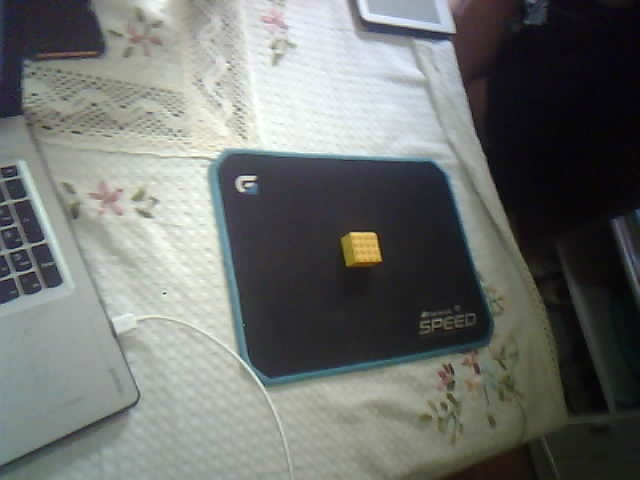lego: (340, 231, 383, 269)
